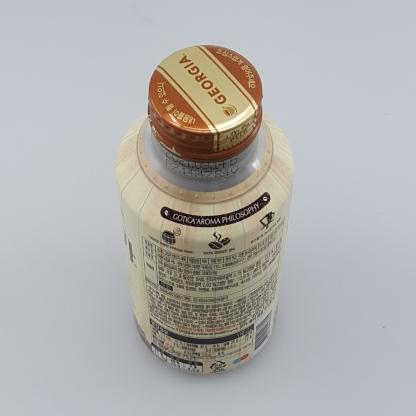----------------: (115, 45, 294, 375)
